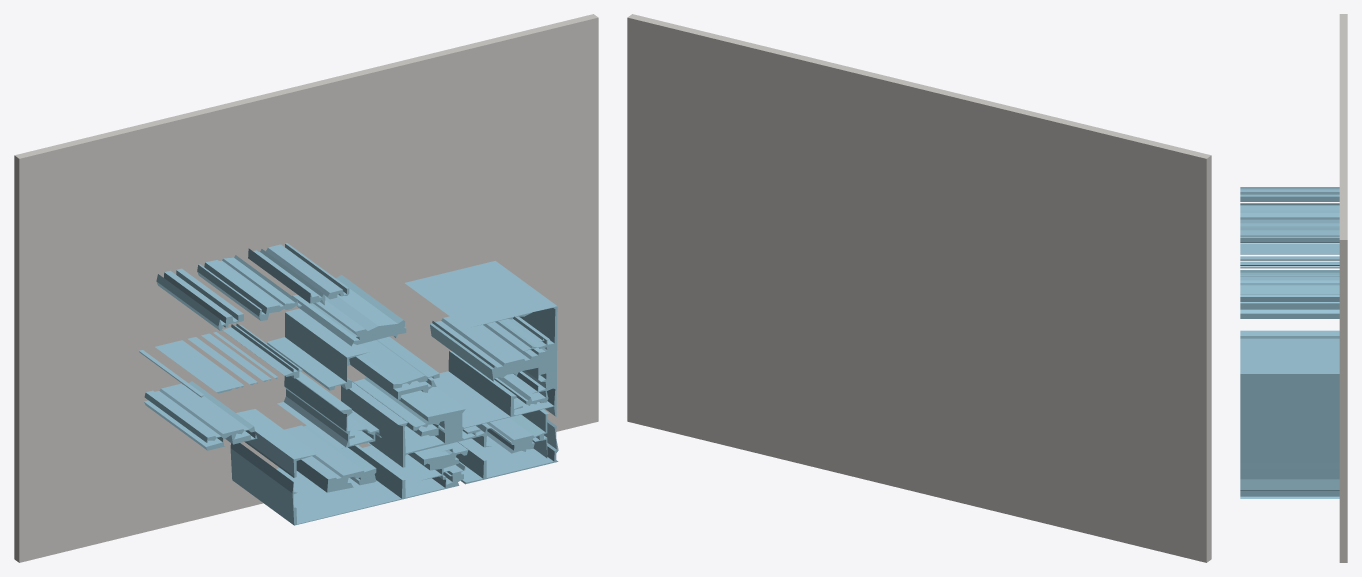
The picture shows the model from 3 angles, left to right: view 1: azimuth 30°, elevation 25°; view 2: azimuth 150°, elevation 25°; view 3: azimuth 270°, elevation 25°; orthographic projection. The views are drawn at different scales.
Visible parts, largest first — view 1: world; view 2: world; view 3: world.
Boxes of the visible parts, x1=… form: world: x1=14, y1=14, x2=598, y2=562; world: x1=627, y1=14, x2=1211, y2=562; world: x1=1240, y1=14, x2=1347, y2=562.
Bounding box in the file's own units: 10.23 × 6.82 × 2.05.
